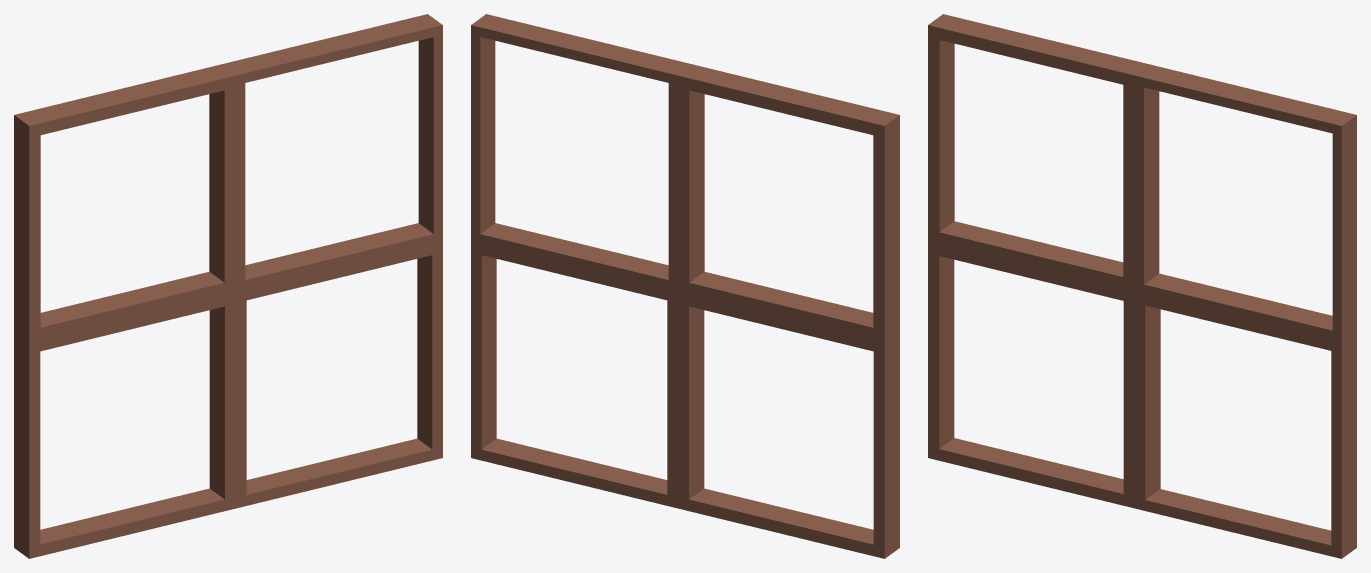
File: WindowNoCurtains.fbx
The picture shows the model from 3 angles, left to right: view 1: azimuth 30°, elevation 25°; view 2: azimuth 150°, elevation 25°; view 3: azimuth 330°, elevation 25°; orthographic projection.
Parts seen in each view (by area): view 1: window; view 2: window; view 3: window.
Boxes of the visible parts, x1,y1,x2,y2 form: window: [14, 14, 442, 558]; window: [471, 14, 899, 558]; window: [928, 14, 1356, 558].
Bounding box in the file's own units: 15.73 × 15.73 × 1.
